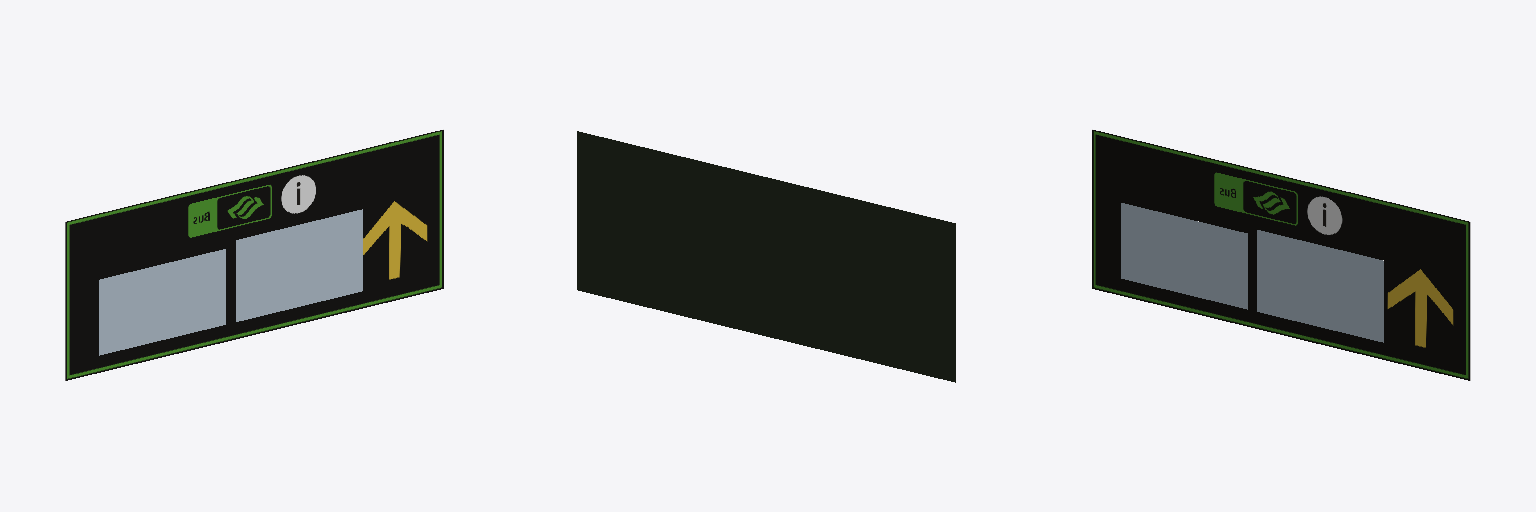
3 views of the same model, side by side, from view 1: azimuth 30°, elevation 25°; view 2: azimuth 150°, elevation 25°; view 3: azimuth 330°, elevation 25° (orthographic).
Parts seen in each view (by area): view 1: Mesh3 Group3 Model, Mesh1 Group1 Model, Mesh2 Group2 Model; view 2: Mesh3 Group3 Model; view 3: Mesh3 Group3 Model, Mesh1 Group1 Model, Mesh2 Group2 Model.
Part boxes in pixels (x1,y1,x2,y2): Mesh3 Group3 Model: (65,129,443,380); Mesh1 Group1 Model: (236,209,362,321); Mesh2 Group2 Model: (99,249,225,355); Mesh3 Group3 Model: (577,131,955,382); Mesh3 Group3 Model: (1092,129,1470,380); Mesh1 Group1 Model: (1257,230,1383,342); Mesh2 Group2 Model: (1121,203,1247,309).
Bounding box in the file's own units: 1.84 × 0.7407 × 0.022.
8 materials, 3 textured.